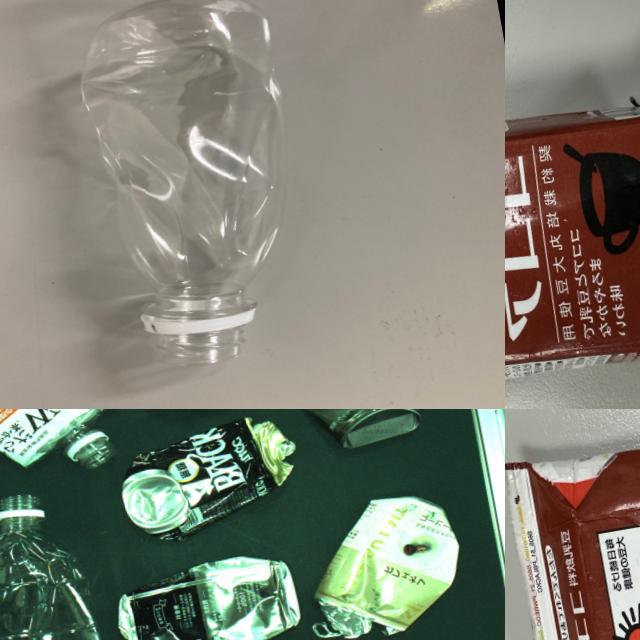Aluminium Foil: (505, 58, 640, 409), (505, 409, 640, 640)
Can: (292, 482, 472, 640), (110, 416, 309, 546), (107, 549, 304, 640), (280, 409, 437, 453)
Transparent Plastic Bottle: (61, 0, 332, 379), (0, 484, 105, 640), (0, 409, 113, 490)
